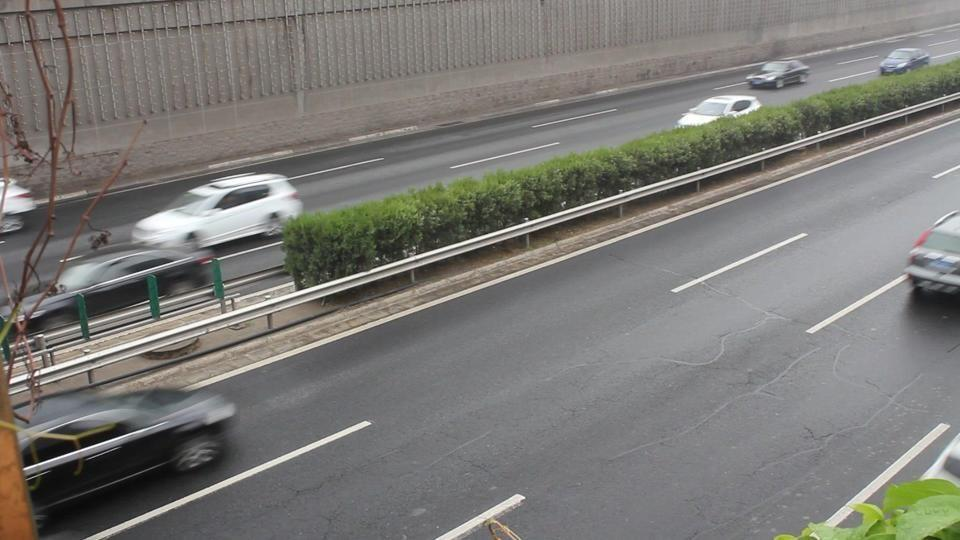car: (10, 386, 242, 524), (11, 244, 216, 319), (129, 173, 303, 251), (904, 209, 960, 298), (676, 96, 764, 125), (0, 180, 38, 236), (746, 59, 811, 90), (879, 47, 931, 76)
